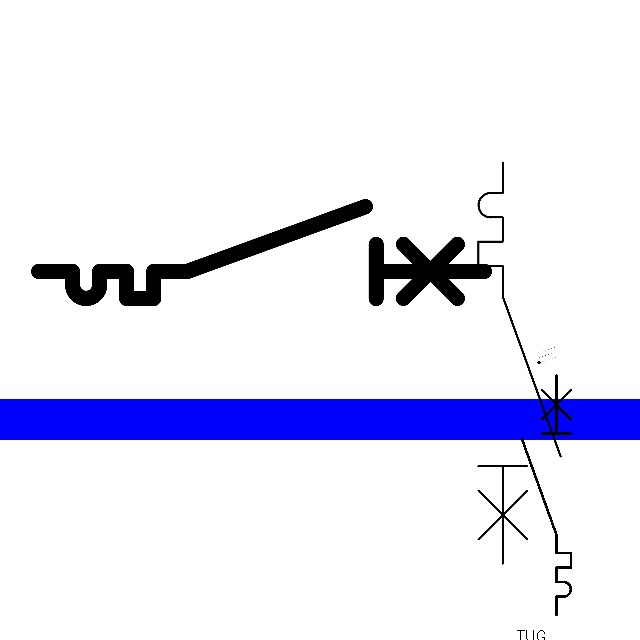interruptor_termomagnetico: (27, 195, 495, 310), (468, 152, 571, 574), (516, 369, 577, 621)
